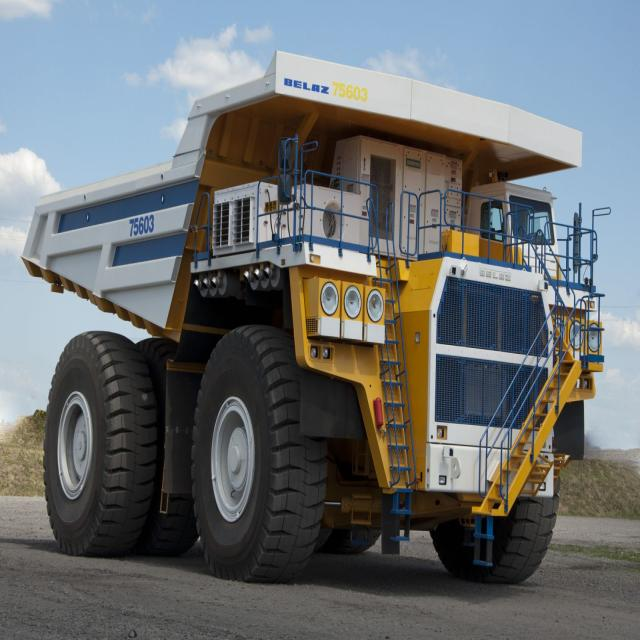dump_truck: (14, 42, 600, 599)
